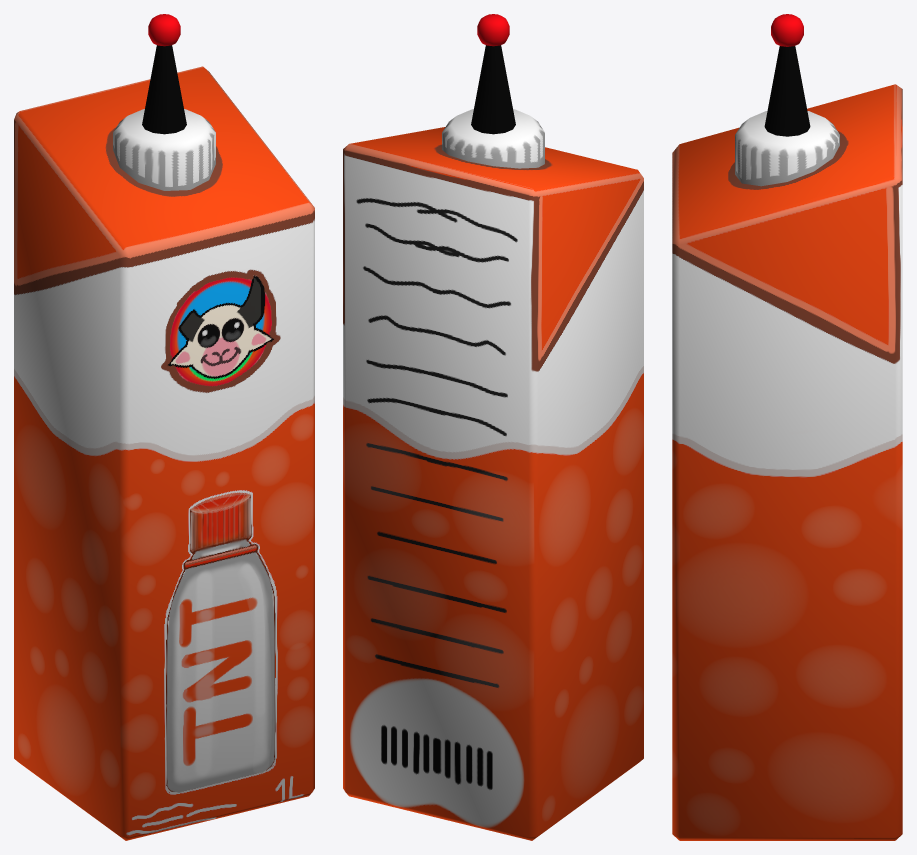
File: mina.fbx
3 views of the same model, side by side, from view 1: azimuth 30°, elevation 25°; view 2: azimuth 150°, elevation 25°; view 3: azimuth 270°, elevation 25° (orthographic). The views are drawn at different scales.
Parts seen in each view (by area): view 1: Cube; view 2: Cube; view 3: Cube.
Part boxes in pixels (x1,y1,x2,y2): Cube: (14, 14, 314, 840); Cube: (343, 14, 643, 840); Cube: (672, 14, 902, 840).
Size of the model in its own units: 275 by 1028 by 275.
Materials: 1 (1 with a texture image).
